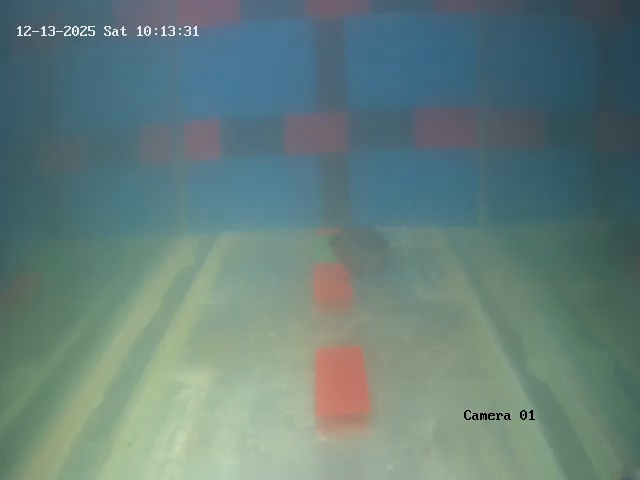fish: (328, 226, 401, 279)
